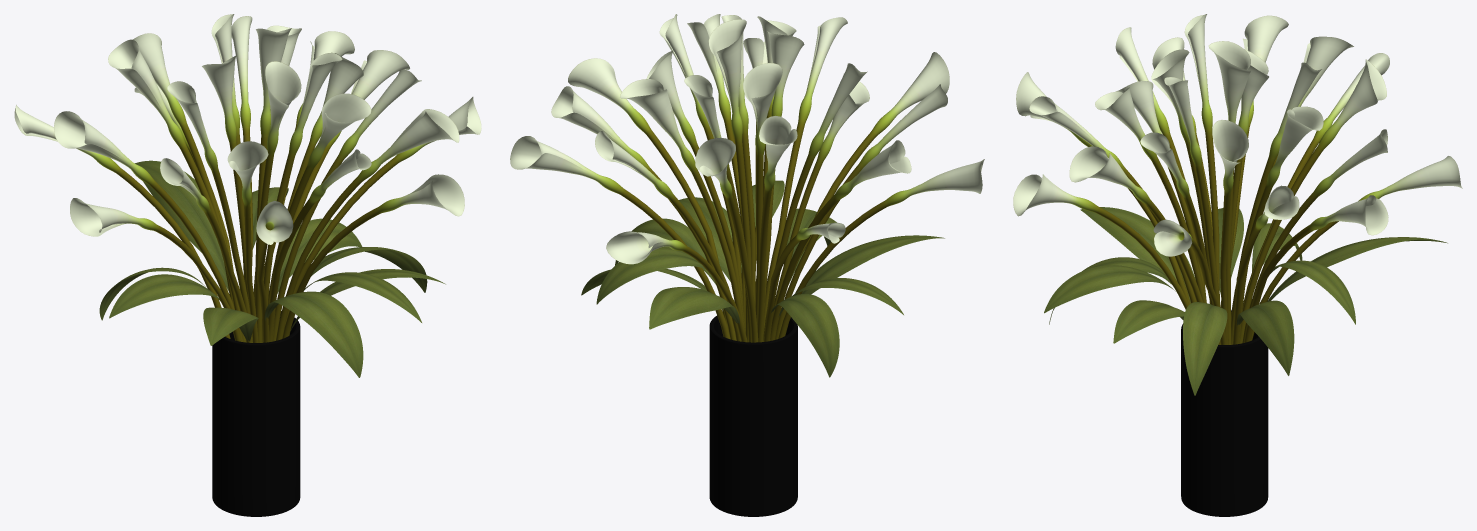
The model's file is br43_lilly_vase_set.fbx.
3 renders of one model, left to right at view 1: azimuth 30°, elevation 25°; view 2: azimuth 150°, elevation 25°; view 3: azimuth 270°, elevation 25°, orthographic.
Visible parts, largest first — view 1: flower, vase1; view 2: flower, vase1; view 3: flower, vase1.
Boxes of the visible parts, left/top/right/bottom form: flower: left=14, top=14, right=481, bottom=377; vase1: left=212, top=311, right=300, bottom=516; flower: left=510, top=14, right=984, bottom=377; vase1: left=709, top=315, right=797, bottom=516; flower: left=1013, top=14, right=1462, bottom=395; vase1: left=1181, top=310, right=1268, bottom=516.
Size of the model in its own units: 47.17 by 51.54 by 45.37.
